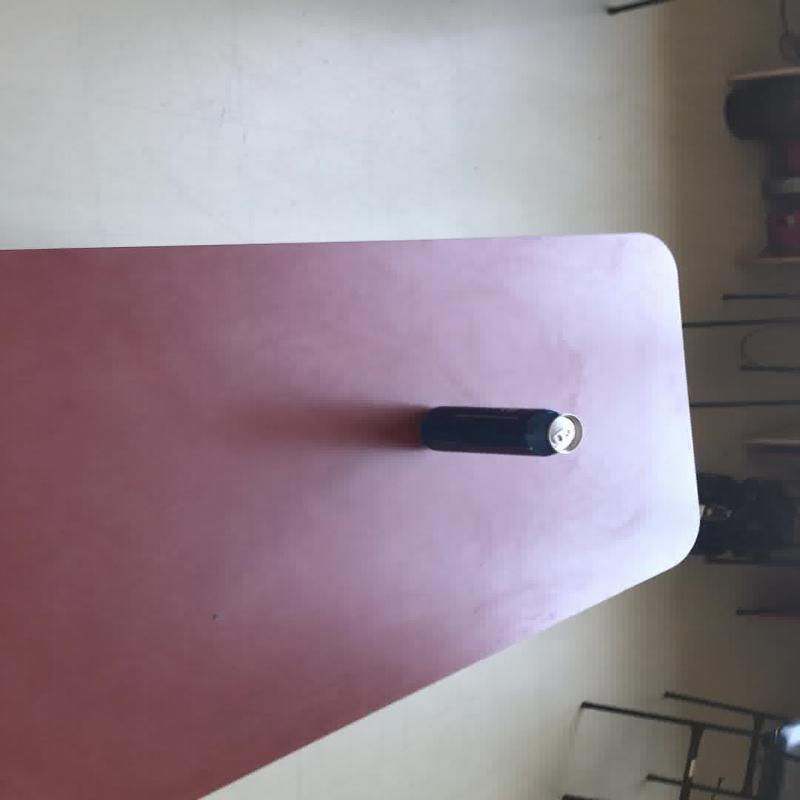tonic: (418, 404, 582, 456)
